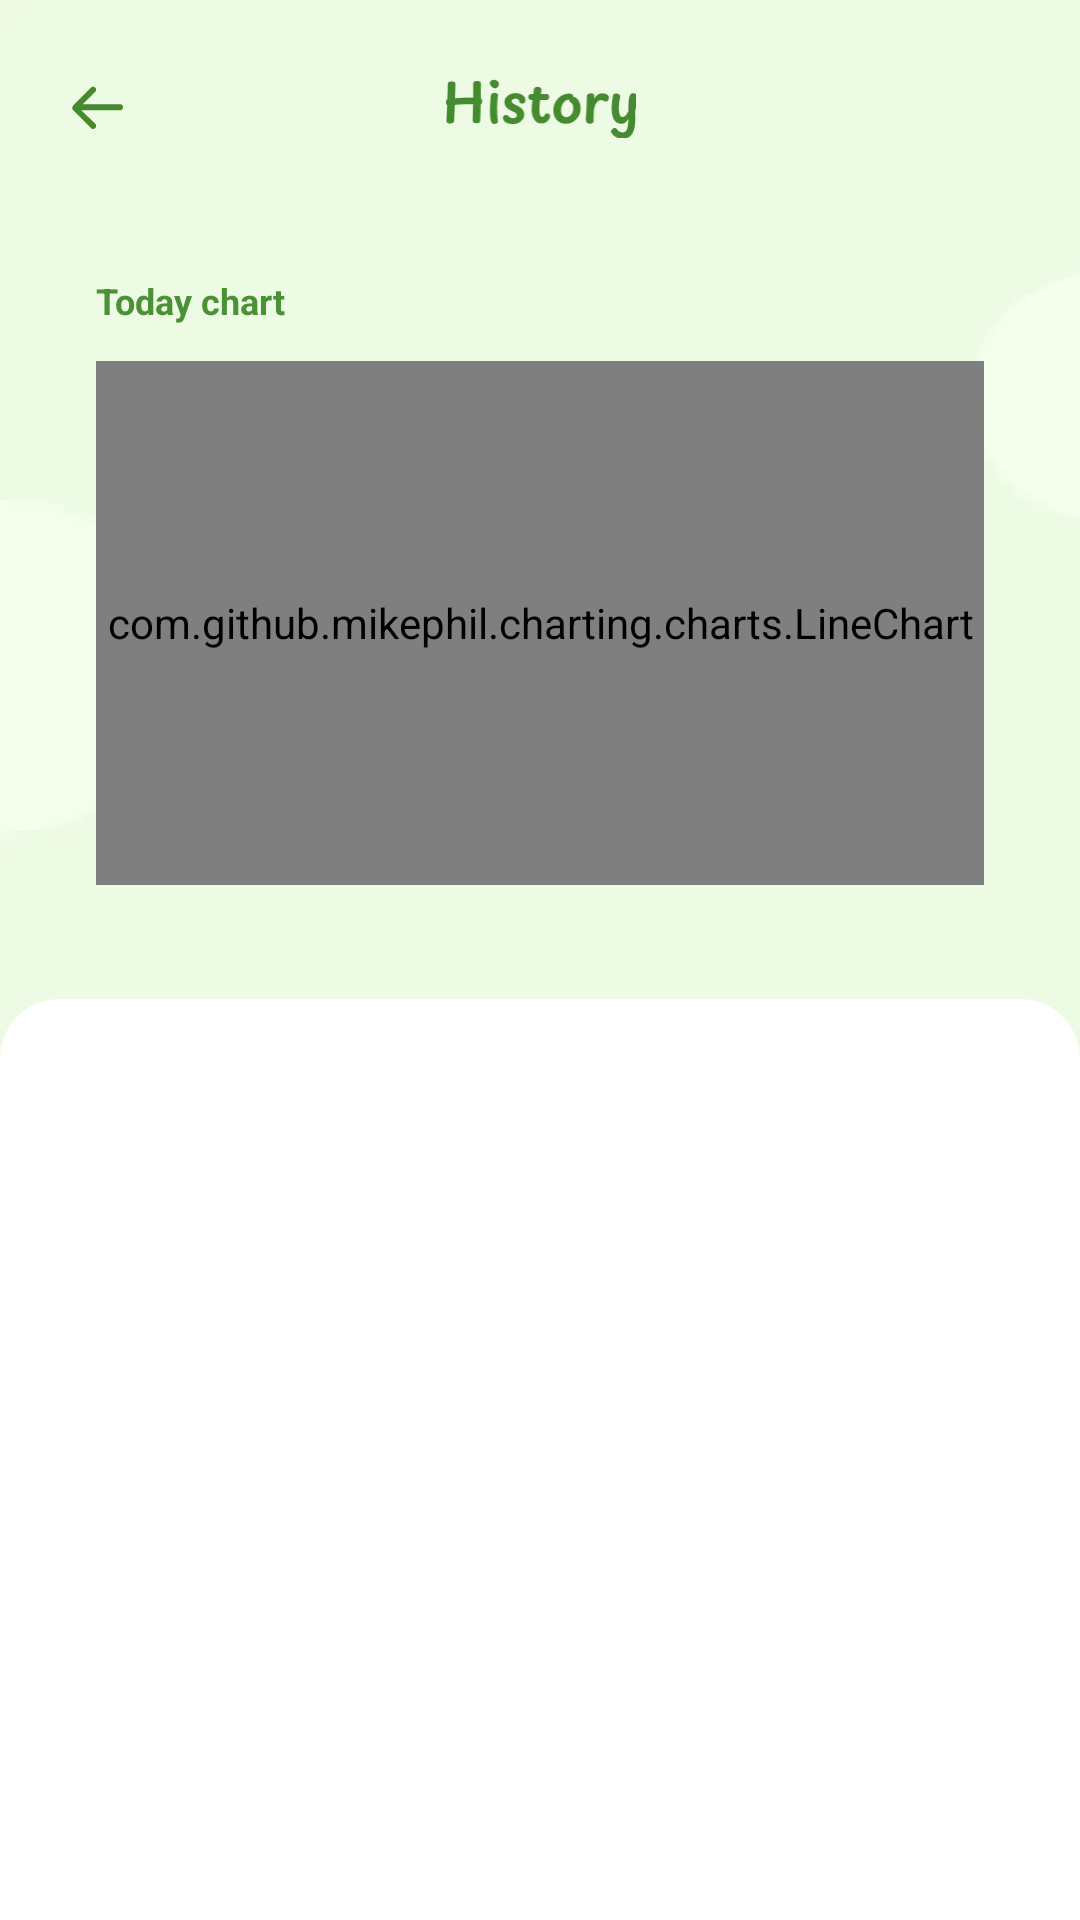

Screen size 1080 × 1920. Icon name, then its box in pixels as Rect(x1, y1, x2, y2):
back: Rect(72, 86, 123, 129)
